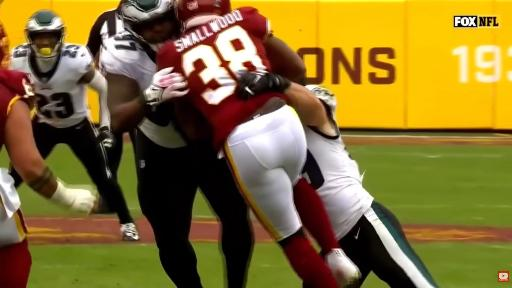Helmet: (119, 0, 177, 42), (25, 10, 65, 57), (0, 22, 10, 67), (194, 19, 209, 25)
Jersey: (158, 7, 286, 150), (303, 104, 373, 238), (11, 43, 93, 128), (100, 32, 156, 92), (0, 69, 28, 149), (0, 23, 9, 68)
Player: (146, 0, 358, 287), (100, 0, 253, 287), (238, 74, 437, 287), (11, 10, 139, 240), (0, 69, 96, 212), (0, 22, 9, 67)
